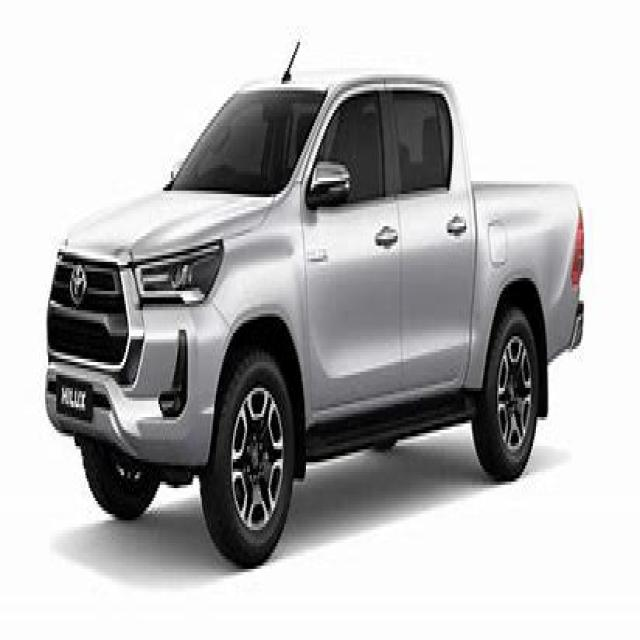light_vehicle: (38, 55, 586, 585)
